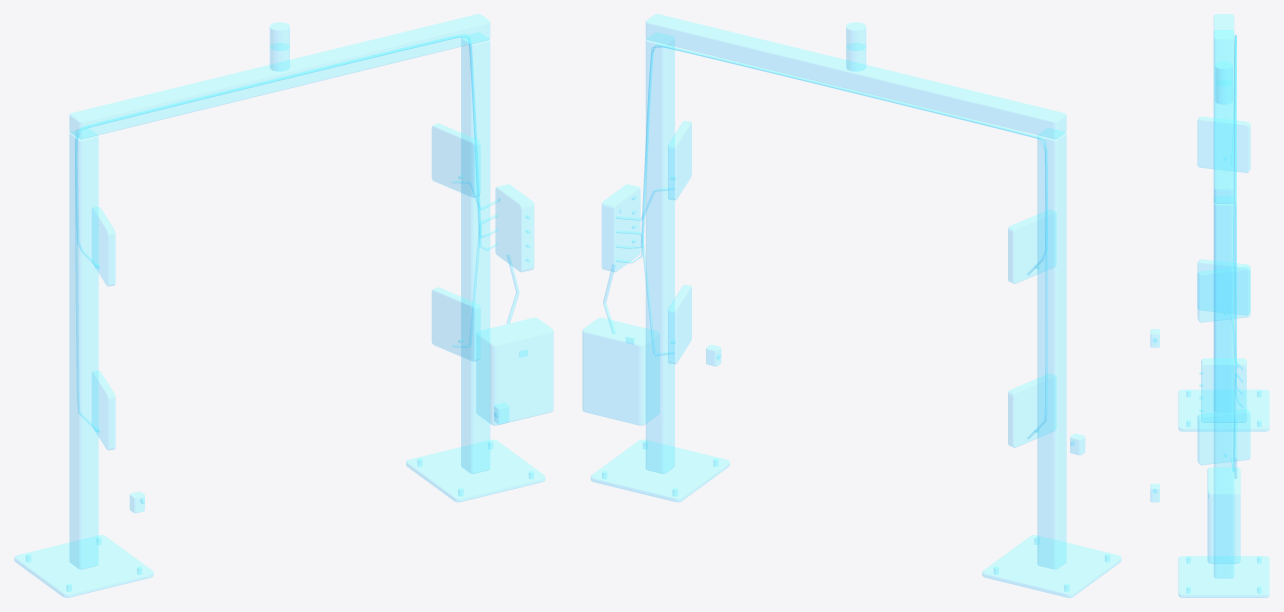
File: p7-Bramka UHF – wzorzec.glb
3 views of the same model, side by side, from view 1: azimuth 30°, elevation 25°; view 2: azimuth 150°, elevation 25°; view 3: azimuth 270°, elevation 25° (orthographic). The views are drawn at different scales.
Parts seen in each view (by area): view 1: 2. Słup lewy, 2. Słup prawy, 4. Belka górna, Antena panelowa UHF (polaryzacja kołowa) (×4), 6. Skrzynka sterująca (zasilacz, PLC, sieć), 1. Podstawa lewa, 1. Podstawa prawa, 7. Kable antenowe (koncentryczne), 5. Czytnik UHF (4 porty), 9. Lampa sygnalizacyjna; view 2: 2. Słup lewy, 2. Słup prawy, 4. Belka górna, Antena panelowa UHF (polaryzacja kołowa) (×4), 6. Skrzynka sterująca (zasilacz, PLC, sieć), 1. Podstawa lewa, 1. Podstawa prawa, 7. Kable antenowe (koncentryczne), 5. Czytnik UHF (4 porty), 9. Lampa sygnalizacyjna; view 3: Antena panelowa UHF (polaryzacja kołowa) (×4), 2. Słup prawy, 4. Belka górna, 1. Podstawa prawa, 2. Słup lewy, 6. Skrzynka sterująca (zasilacz, PLC, sieć), 5. Czytnik UHF (4 porty), 1. Podstawa lewa, 7. Kable antenowe (koncentryczne), 9. Lampa sygnalizacyjna, 8. Fotokomórka (wyzwalanie odczytu).
Boxes of the visible parts, bbox=[...] form: 2. Słup lewy: bbox=[69, 128, 98, 569]; 2. Słup prawy: bbox=[461, 33, 489, 473]; 4. Belka górna: bbox=[69, 14, 489, 138]; Antena panelowa UHF (polaryzacja kołowa) (×4): bbox=[92, 123, 480, 449]; 6. Skrzynka sterująca (zasilacz, PLC, sieć): bbox=[476, 318, 553, 425]; 1. Podstawa lewa: bbox=[14, 535, 153, 597]; 1. Podstawa prawa: bbox=[406, 440, 544, 501]; 7. Kable antenowe (koncentryczne): bbox=[75, 34, 519, 432]; 5. Czytnik UHF (4 porty): bbox=[495, 184, 533, 271]; 9. Lampa sygnalizacyjna: bbox=[270, 22, 289, 71]; 2. Słup lewy: bbox=[1037, 128, 1066, 569]; 2. Słup prawy: bbox=[646, 33, 674, 473]; 4. Belka górna: bbox=[646, 14, 1066, 138]; Antena panelowa UHF (polaryzacja kołowa) (×4): bbox=[668, 121, 1055, 447]; 6. Skrzynka sterująca (zasilacz, PLC, sieć): bbox=[582, 318, 659, 425]; 1. Podstawa lewa: bbox=[982, 535, 1121, 597]; 1. Podstawa prawa: bbox=[591, 440, 729, 501]; 7. Kable antenowe (koncentryczne): bbox=[603, 43, 1047, 438]; 5. Czytnik UHF (4 porty): bbox=[602, 184, 640, 271]; 9. Lampa sygnalizacyjna: bbox=[846, 22, 865, 71]; Antena panelowa UHF (polaryzacja kołowa) (×4): bbox=[1197, 117, 1250, 464]; 2. Słup prawy: bbox=[1214, 197, 1233, 578]; 4. Belka górna: bbox=[1214, 14, 1233, 203]; 1. Podstawa prawa: bbox=[1178, 556, 1269, 597]; 2. Słup lewy: bbox=[1214, 30, 1233, 358]; 6. Skrzynka sterująca (zasilacz, PLC, sieć): bbox=[1207, 467, 1240, 563]; 5. Czytnik UHF (4 porty): bbox=[1199, 358, 1246, 422]; 1. Podstawa lewa: bbox=[1178, 390, 1269, 431]; 7. Kable antenowe (koncentryczne): bbox=[1231, 35, 1243, 478]; 9. Lampa sygnalizacyjna: bbox=[1215, 62, 1232, 104]; 8. Fotokomórka (wyzwalanie odczytu): bbox=[1150, 329, 1159, 501].
Bounding box in the file's own units: 2.59 × 2.42 × 0.6073.
